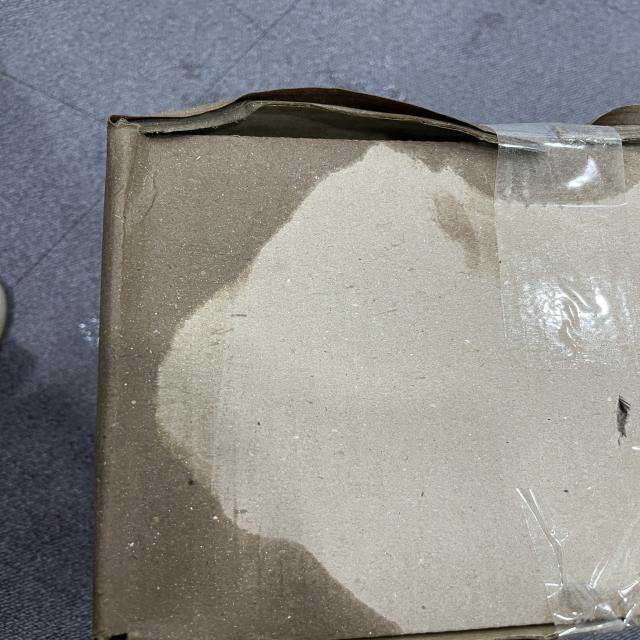wet: (98, 124, 344, 639)
